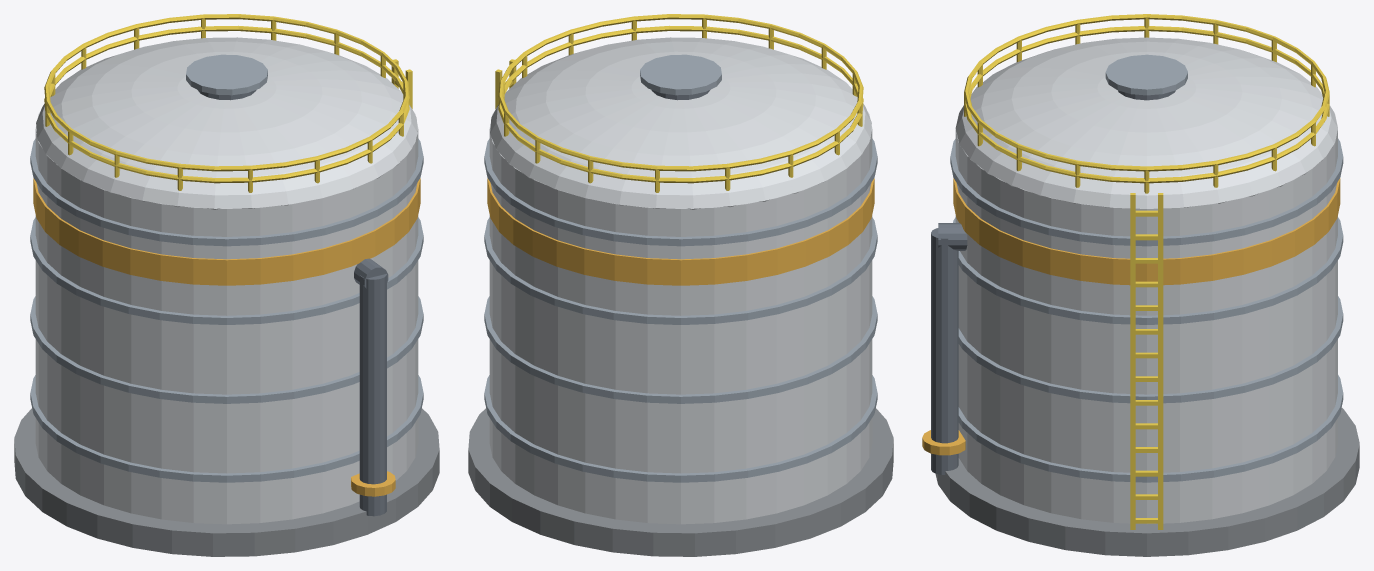
Rendered from storage_tank.glb.
The picture shows the model from 3 angles, left to right: view 1: azimuth 30°, elevation 25°; view 2: azimuth 150°, elevation 25°; view 3: azimuth 270°, elevation 25°; orthographic projection.
Parts seen in each view (by area): view 1: TankBody, TankDome, Plinth, HazardBand, IntakePipeV, RailRing_0.95, Ring_0.78, RailRing_0.92, Ring_0.38, Ring_0.58, Ring_0.18, VentCap (+2 smaller); view 2: TankBody, TankDome, Plinth, HazardBand, RailRing_0.95, Ring_0.38, Ring_0.58, Ring_0.78, Ring_0.18, RailRing_0.92, VentCap; view 3: TankBody, TankDome, Plinth, HazardBand, IntakePipeV, RailRing_0.95, RailRing_0.92, Ring_0.78, Ring_0.58, Ring_0.18, Ring_0.38, VentCap (+4 smaller).
Boxes of the visible parts, box(x1,y1,x2,y2) form: TankBody: box(35, 108, 418, 524); TankDome: box(36, 37, 417, 209); Plinth: box(14, 408, 439, 556); HazardBand: box(33, 178, 420, 285); IntakePipeV: box(359, 274, 386, 516); RailRing_0.95: box(44, 14, 409, 171); Ring_0.78: box(30, 138, 423, 246); RailRing_0.92: box(44, 25, 409, 183); Ring_0.38: box(30, 296, 423, 403); Ring_0.58: box(30, 217, 423, 324); Ring_0.18: box(30, 375, 423, 482); VentCap: box(186, 54, 267, 95); TankBody: box(489, 108, 872, 524); TankDome: box(490, 37, 871, 209); Plinth: box(468, 408, 893, 556); HazardBand: box(487, 178, 874, 285); RailRing_0.95: box(498, 14, 863, 171); Ring_0.38: box(484, 296, 877, 403); Ring_0.58: box(484, 217, 877, 324); Ring_0.78: box(484, 138, 877, 246); Ring_0.18: box(484, 375, 877, 482); RailRing_0.92: box(498, 25, 863, 183); VentCap: box(640, 54, 721, 95); TankBody: box(955, 114, 1337, 524); TankDome: box(955, 37, 1337, 208); Plinth: box(935, 408, 1359, 556); HazardBand: box(953, 178, 1340, 285); IntakePipeV: box(931, 228, 958, 474); RailRing_0.95: box(964, 14, 1329, 171); RailRing_0.92: box(964, 26, 1329, 183); Ring_0.78: box(950, 138, 1343, 246); Ring_0.58: box(953, 217, 1343, 324); Ring_0.18: box(958, 375, 1343, 482); Ring_0.38: box(958, 296, 1343, 403); VentCap: box(1105, 54, 1187, 95).
Bounding box in the file's own units: 0.98 × 1 × 1.01.
